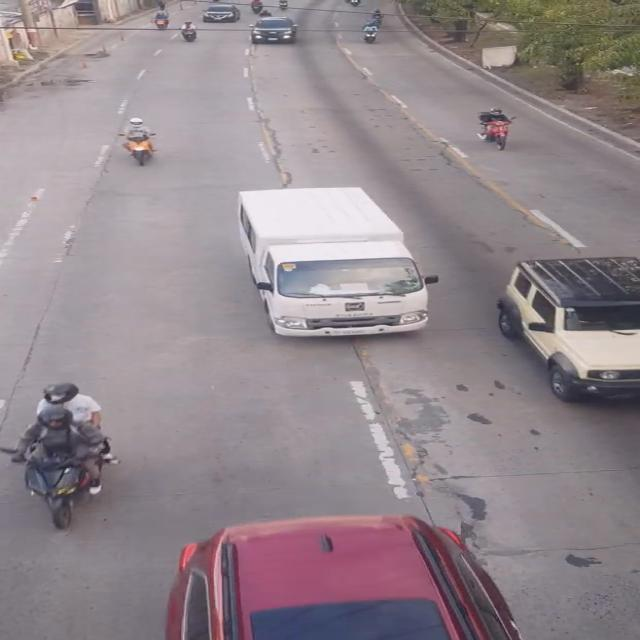car: (146, 506, 518, 640), (496, 250, 639, 395), (252, 12, 300, 44)
motorbike: (17, 384, 112, 534), (124, 114, 156, 171), (482, 107, 511, 148)
truck: (237, 184, 432, 344)
